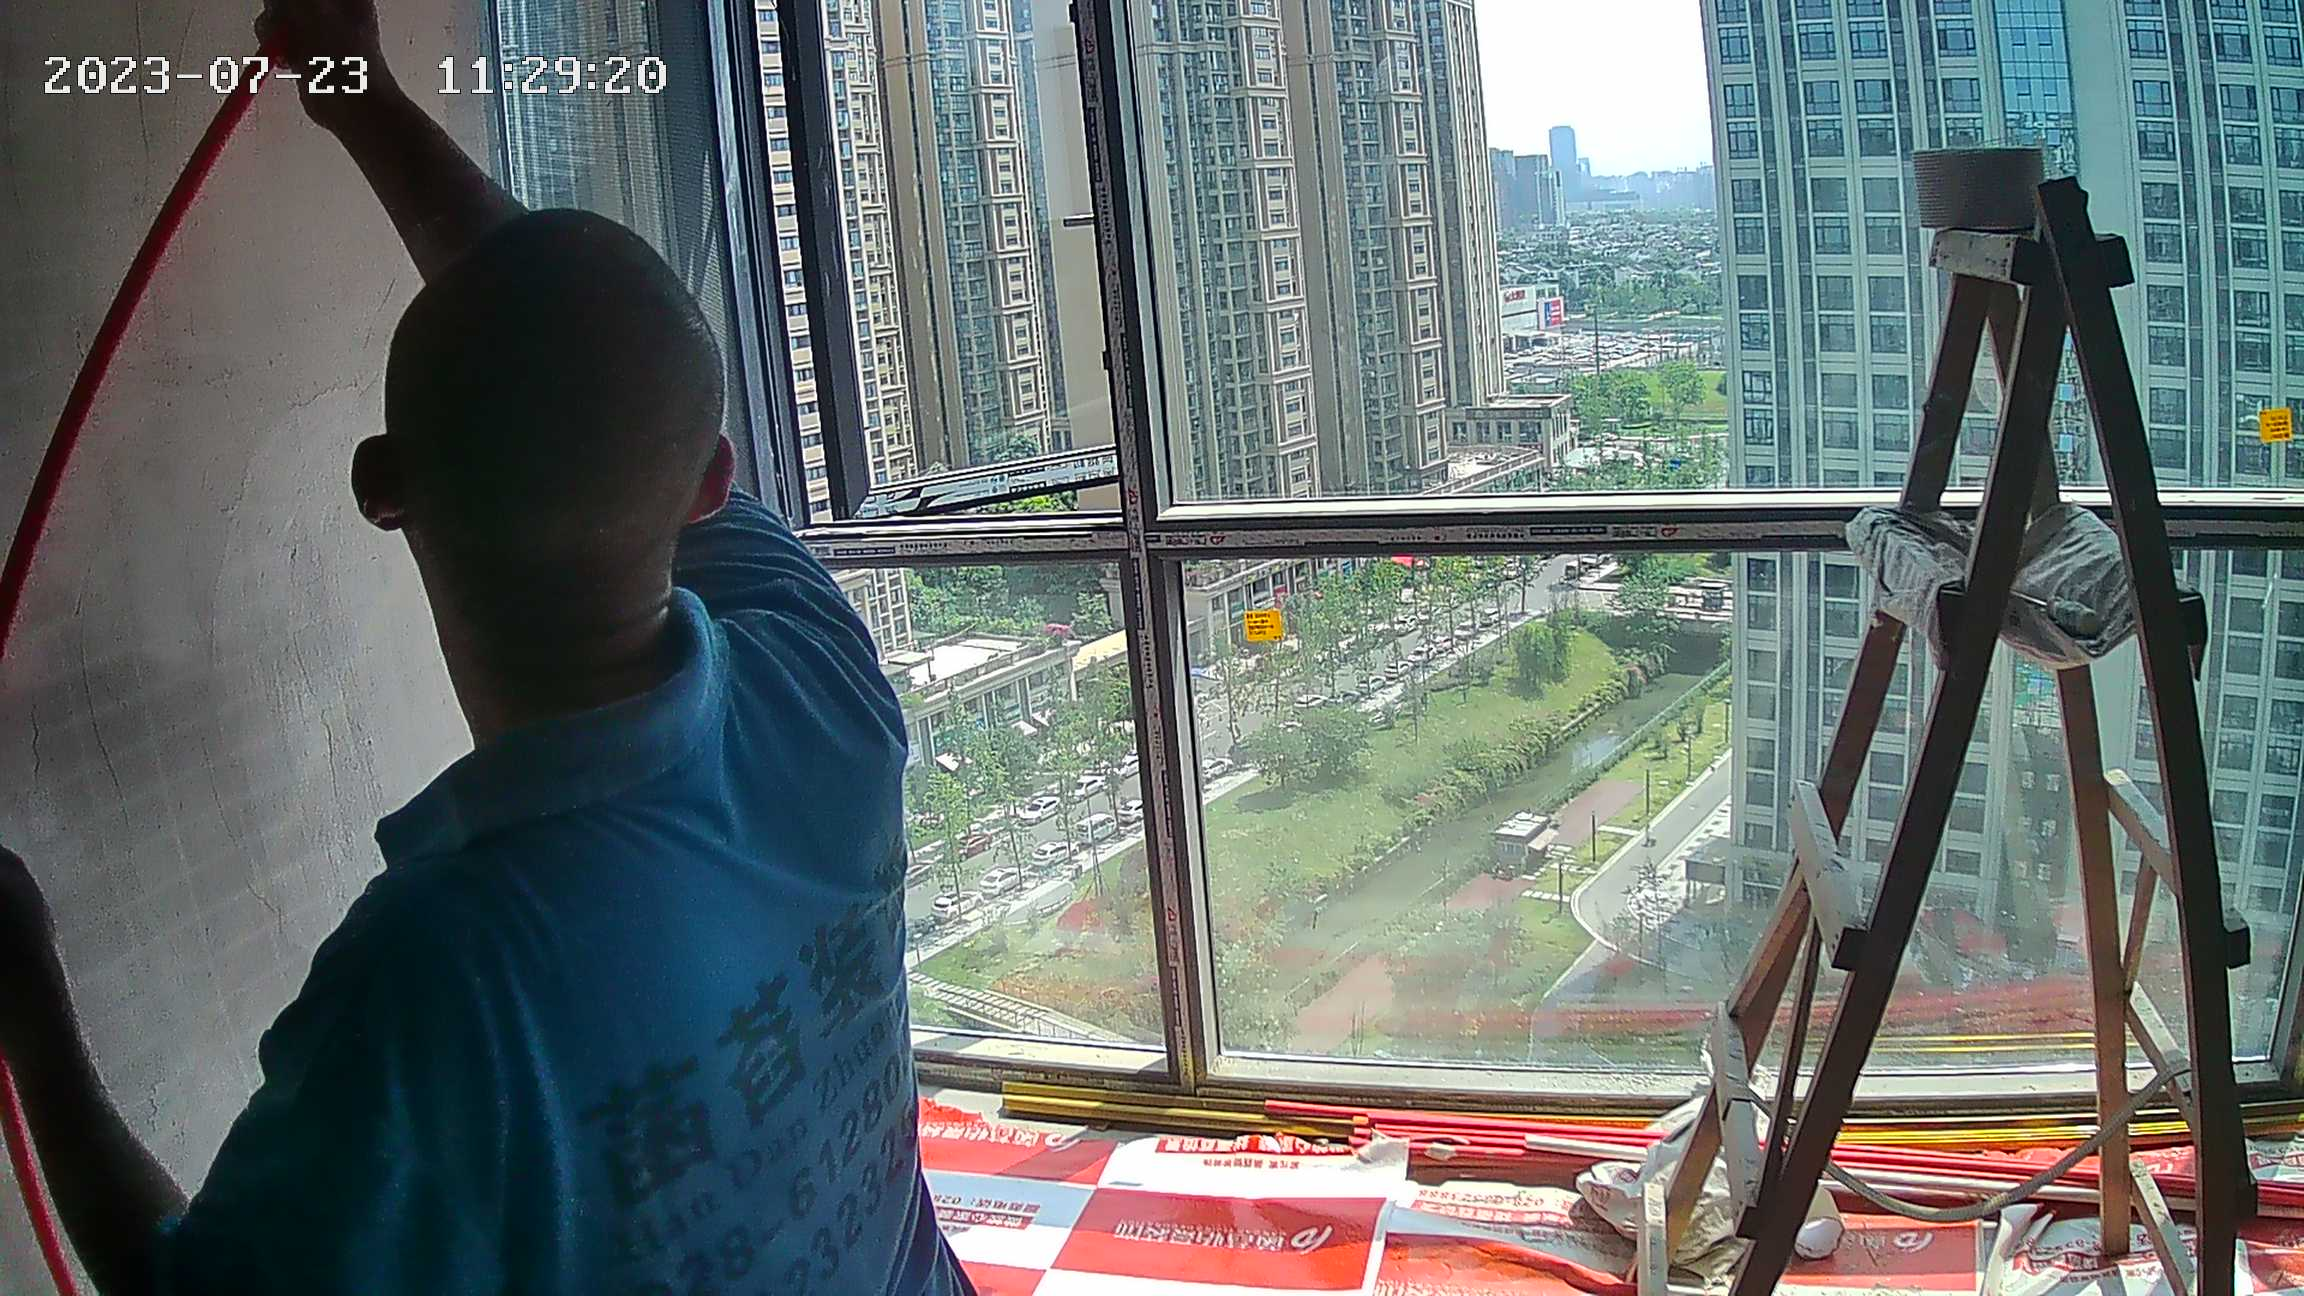people: (24, 27, 993, 1296)
window: (491, 8, 2304, 1103)
